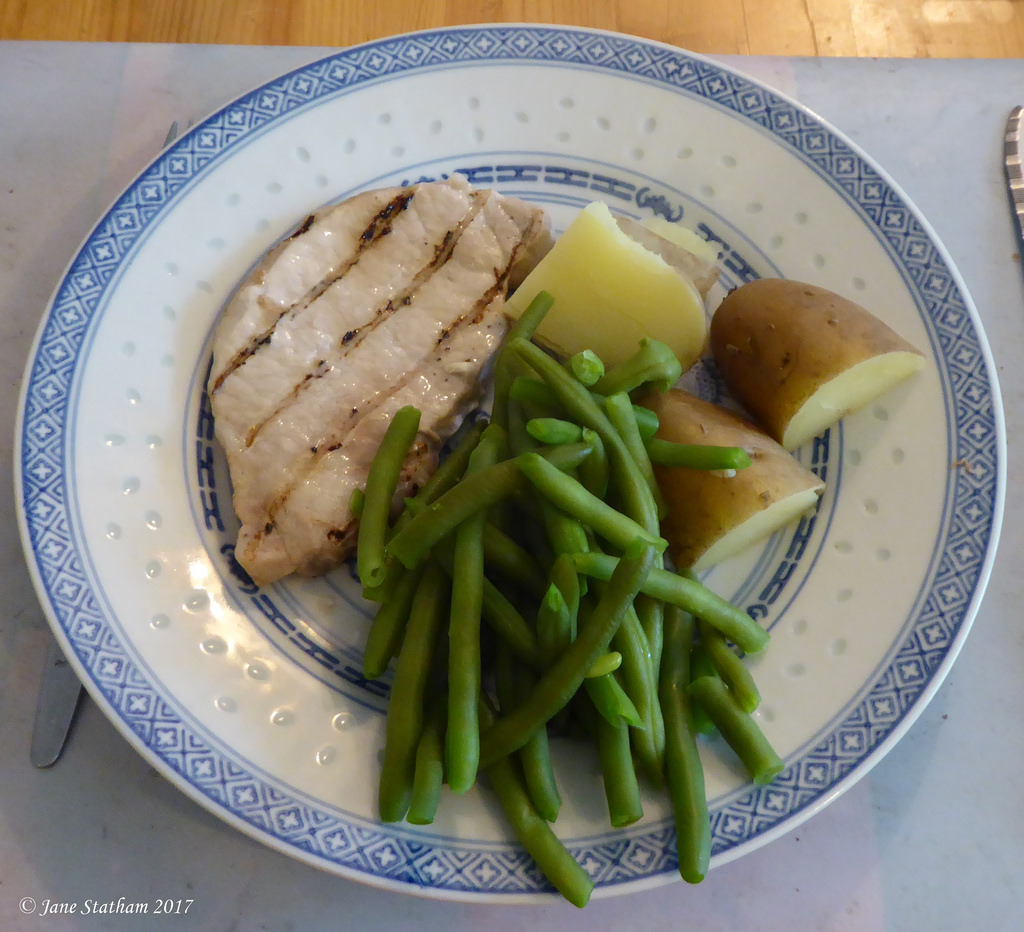boiled potatoes: (565, 220, 875, 402)
chopped lettuce: (478, 404, 658, 817)
